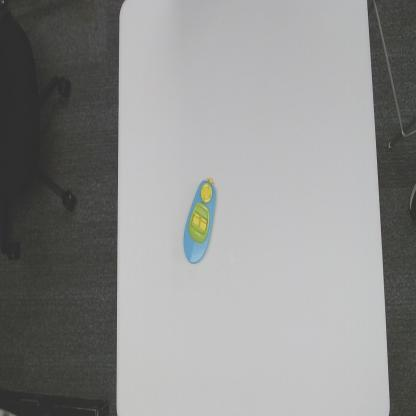Boat: (182, 171, 219, 268)
